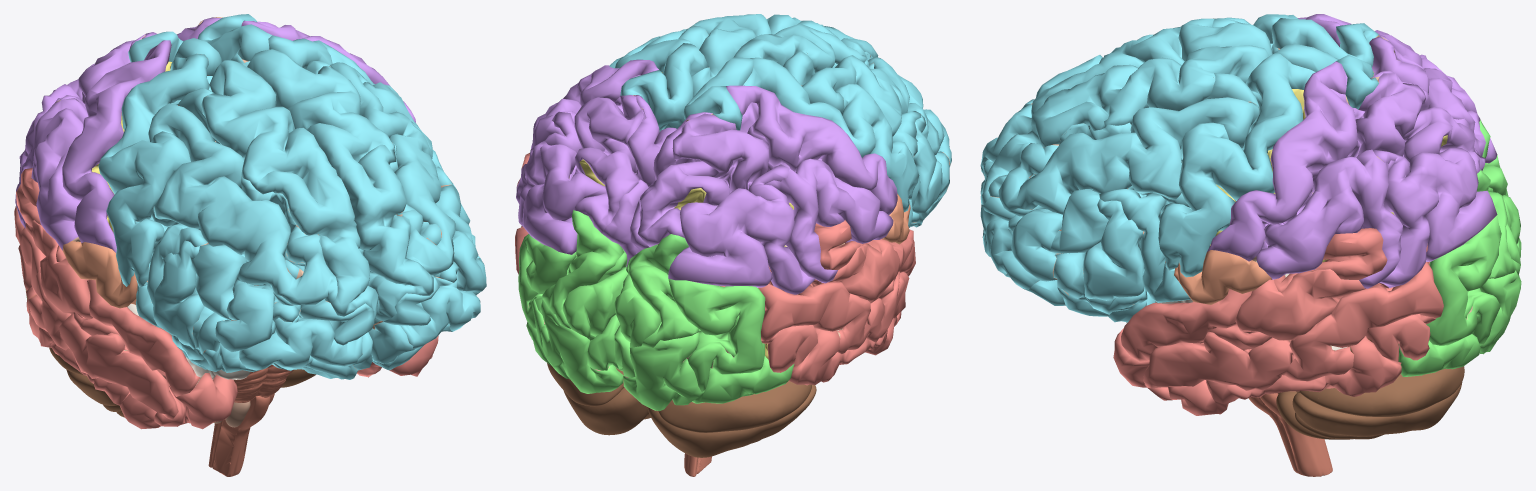
Rendered from brain.glb.
The picture shows the model from 3 angles, left to right: view 1: azimuth 30°, elevation 25°; view 2: azimuth 150°, elevation 25°; view 3: azimuth 270°, elevation 25°; orthographic projection. The views are drawn at different scales.
Visible parts, largest first — view 1: Middle frontal gyrus (right), Superior frontal gyrus (right), Superior frontal gyrus (left), Precentral gyrus (right), Middle frontal gyrus (left), Postcentral gyrus (right), Middle temporal gyrus (right), Superior temporal gyrus (Lateral part) (right), Supramarginal gyrus (right), Orbital gyri (Frontomarginal gyrus and sulcus*) (right), Triangular part of inferior frontal gyrus (right), Inferior frontal sulcus (right) (+26 smaller); view 2: Angular gyrus (right), Superior parietal lobule (right), Postcentral gyrus (right), Supramarginal gyrus (right), Angular gyrus (left), Lateral occipital gyrus (Middle occipital gyrus*) (right), Precentral gyrus (right), Middle temporal gyrus (right), Superior parietal lobule (left), Middle frontal gyrus (right), Inferior temporal gyrus (right), Superior semilunar lobule (right) (+31 smaller); view 3: Middle frontal gyrus (left), Precentral gyrus (left), Middle temporal gyrus (left), Superior frontal gyrus (left), Postcentral gyrus (left), Supramarginal gyrus (left), Superior temporal gyrus (Lateral part) (left), Angular gyrus (left), Inferior temporal gyrus (left), Superior frontal gyrus (right), Superior parietal lobule (left), Lateral occipital gyrus (Middle occipital gyrus*) (left) (+26 smaller).
Part boxes in pixels (bbox=[...]): Middle frontal gyrus (right): bbox=[148, 103, 337, 351]; Superior frontal gyrus (right): bbox=[201, 60, 378, 320]; Superior frontal gyrus (left): bbox=[231, 49, 433, 329]; Precentral gyrus (right): bbox=[98, 53, 209, 287]; Middle frontal gyrus (left): bbox=[330, 62, 486, 292]; Postcentral gyrus (right): bbox=[62, 40, 171, 253]; Middle temporal gyrus (right): bbox=[14, 206, 178, 419]; Superior temporal gyrus (Lateral part) (right): bbox=[25, 220, 200, 396]; Supramarginal gyrus (right): bbox=[15, 98, 88, 250]; Orbital gyri (Frontomarginal gyrus and sulcus*) (right): bbox=[239, 309, 362, 370]; Triangular part of inferior frontal gyrus (right): bbox=[153, 240, 204, 349]; Inferior frontal sulcus (right): bbox=[151, 207, 247, 320]; Angular gyrus (right): bbox=[668, 164, 815, 294]; Superior parietal lobule (right): bbox=[638, 113, 769, 246]; Postcentral gyrus (right): bbox=[726, 85, 897, 214]; Supramarginal gyrus (right): bbox=[764, 158, 893, 283]; Angular gyrus (left): bbox=[518, 111, 606, 254]; Lateral occipital gyrus (Middle occipital gyrus*) (right): bbox=[668, 278, 765, 392]; Precentral gyrus (right): bbox=[743, 57, 919, 212]; Middle temporal gyrus (right): bbox=[758, 271, 909, 353]; Superior parietal lobule (left): bbox=[573, 95, 646, 233]; Middle frontal gyrus (right): bbox=[802, 55, 951, 166]; Inferior temporal gyrus (right): bbox=[761, 317, 897, 385]; Superior semilunar lobule (right): bbox=[658, 381, 811, 432]; Middle frontal gyrus (left): bbox=[988, 97, 1260, 281]; Precentral gyrus (left): bbox=[1158, 52, 1315, 277]; Middle temporal gyrus (left): bbox=[1143, 262, 1443, 390]; Superior frontal gyrus (left): bbox=[980, 45, 1268, 204]; Postcentral gyrus (left): bbox=[1207, 61, 1357, 261]; Supramarginal gyrus (left): bbox=[1256, 149, 1402, 288]; Superior temporal gyrus (Lateral part) (left): bbox=[1121, 269, 1365, 362]; Angular gyrus (left): bbox=[1373, 148, 1497, 288]; Inferior temporal gyrus (left): bbox=[1168, 314, 1435, 415]; Superior frontal gyrus (right): bbox=[980, 18, 1279, 180]; Superior parietal lobule (left): bbox=[1355, 73, 1485, 173]; Lateral occipital gyrus (Middle occipital gyrus*) (left): bbox=[1426, 215, 1501, 345].
Bounding box in the file's own units: 0.1378 × 0.1608 × 0.1807.
